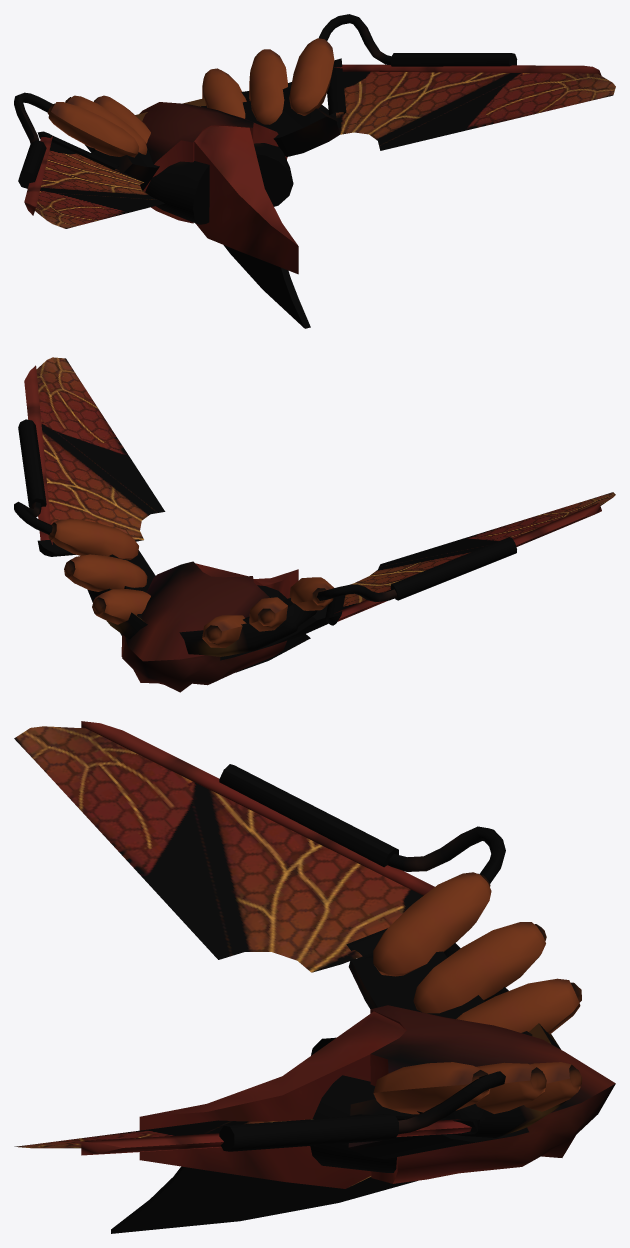
Rendered from ship19b.fbx.
3 renders of one model, top to bottom at view 1: azimuth 30°, elevation 25°; view 2: azimuth 150°, elevation 25°; view 3: azimuth 270°, elevation 25°, orthographic. The views are drawn at different scales.
Visible parts, largest first — view 1: PipelineFBX1, PipelineFBX0; view 2: PipelineFBX1, PipelineFBX0; view 3: PipelineFBX1, PipelineFBX0.
Boxes of the visible parts, left/top/right/bottom form: PipelineFBX1: left=14, top=14, right=601, bottom=328; PipelineFBX0: left=35, top=71, right=615, bottom=228; PipelineFBX1: left=14, top=365, right=601, bottom=692; PipelineFBX0: left=36, top=357, right=615, bottom=609; PipelineFBX1: left=81, top=721, right=615, bottom=1233; PipelineFBX0: left=14, top=726, right=423, bottom=1148.
Size of the model in its own units: 362 by 119 by 217.
Materials: 1 (1 with a texture image).
